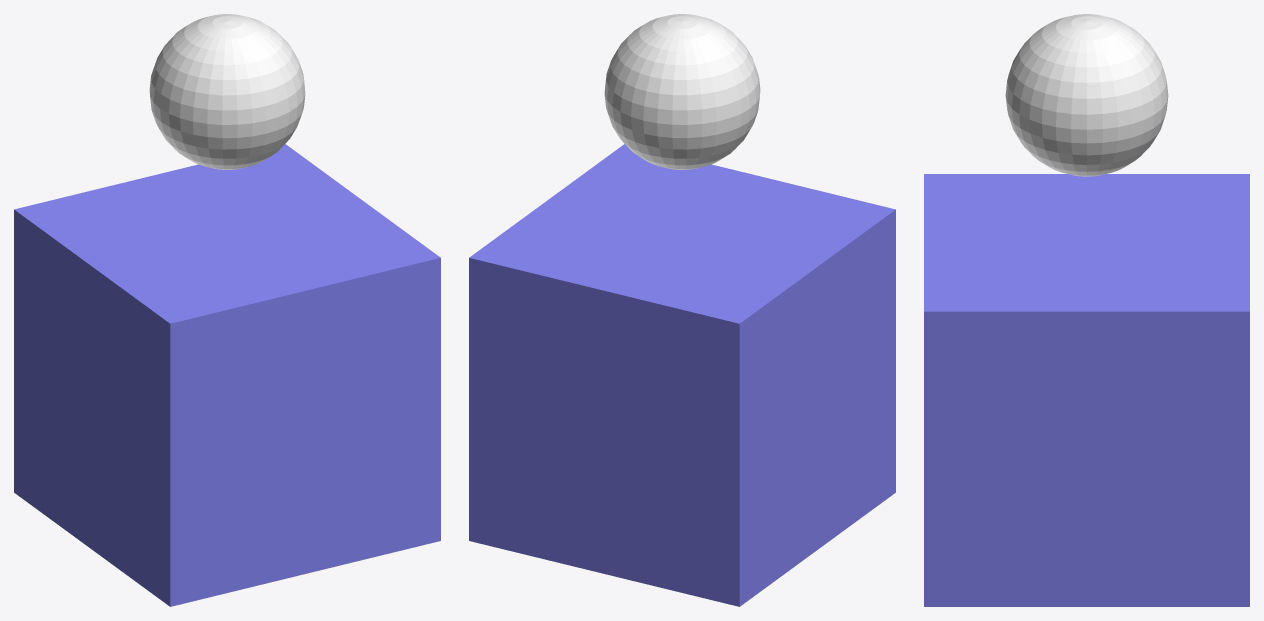
Rendered from sample.glb.
3 views of the same model, side by side, from view 1: azimuth 30°, elevation 25°; view 2: azimuth 150°, elevation 25°; view 3: azimuth 270°, elevation 25° (orthographic). The views are drawn at different scales.
Visible parts, largest first — view 1: Cube, Sphere; view 2: Cube, Sphere; view 3: Cube, Sphere.
Boxes of the visible parts, x1,y1,x2,y2 form: Cube: (14,144,440,606); Sphere: (149,14,305,169); Cube: (469,144,895,606); Sphere: (604,14,760,169); Cube: (924,174,1249,606); Sphere: (1005,14,1168,176).
Size of what is drawn, in the model's own units: 1 by 1.75 by 1.
